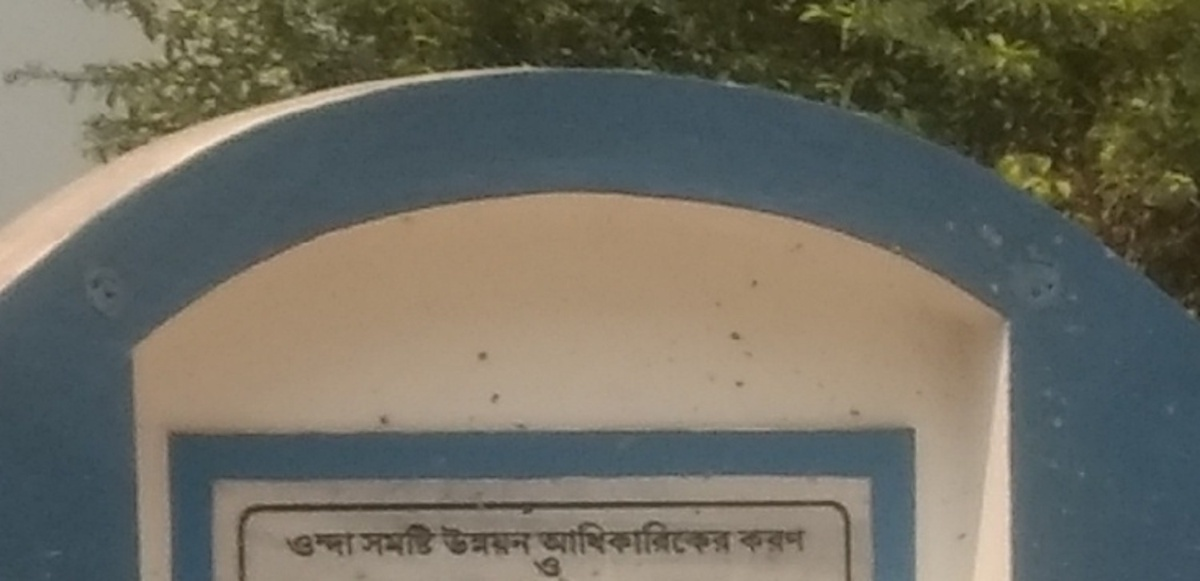text: (369, 521, 384, 560), (385, 521, 400, 560), (401, 521, 416, 560), (417, 521, 432, 560), (545, 519, 560, 557), (561, 519, 576, 557), (577, 519, 592, 557), (593, 519, 608, 557), (609, 519, 624, 557), (625, 519, 640, 557), (641, 519, 656, 557), (657, 519, 672, 557), (673, 519, 688, 557), (689, 519, 704, 557), (705, 519, 720, 557), (721, 519, 736, 557), (449, 522, 464, 559), (465, 522, 480, 559), (481, 522, 496, 559), (497, 522, 512, 559), (513, 522, 528, 559), (437, 522, 448, 559), (737, 529, 752, 556), (753, 529, 768, 556), (769, 529, 784, 556), (785, 529, 800, 556), (289, 533, 304, 559), (305, 533, 320, 559), (321, 533, 336, 559), (337, 533, 352, 559), (358, 521, 368, 560), (545, 556, 560, 579), (535, 519, 544, 557), (532, 556, 544, 579), (529, 522, 536, 559), (801, 529, 810, 556), (433, 521, 439, 560), (737, 519, 741, 557), (284, 533, 288, 559), (353, 533, 357, 559), (561, 556, 565, 579), (735, 529, 736, 556)
